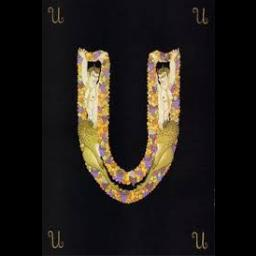u: (70, 44, 186, 212), (43, 2, 69, 28)
